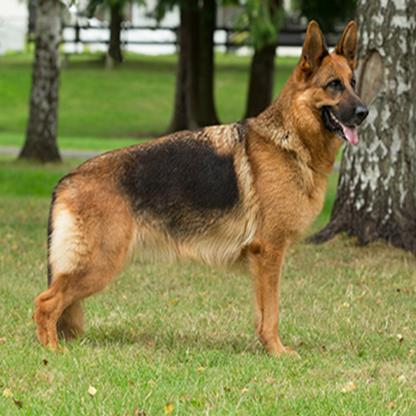dog: (36, 20, 370, 361)
